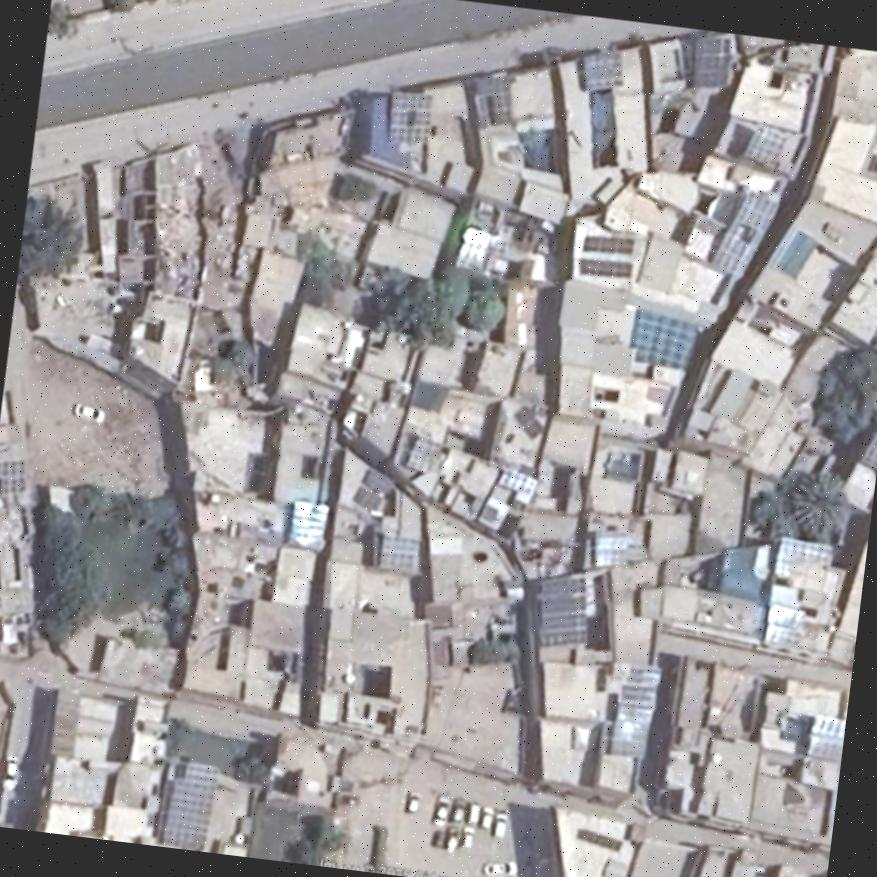Solarpanel: (708, 189, 780, 277), (166, 756, 219, 850), (774, 536, 831, 587), (542, 577, 584, 645), (388, 91, 430, 140), (289, 501, 329, 548), (806, 715, 845, 762), (688, 38, 728, 83), (745, 124, 785, 164), (584, 49, 625, 87), (403, 435, 443, 472), (380, 535, 415, 573), (591, 534, 629, 568), (580, 257, 634, 276), (0, 461, 24, 495), (583, 236, 633, 252)
